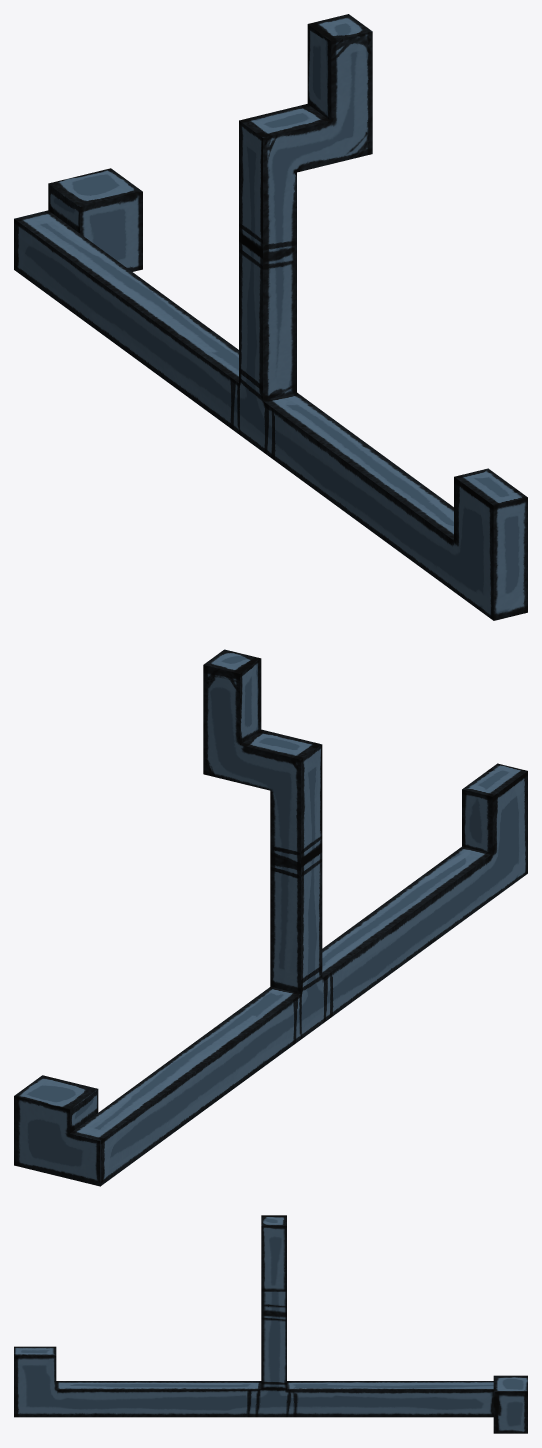
File: pipe.fbx
3 renders of one model, top to bottom at view 1: azimuth 30°, elevation 25°; view 2: azimuth 150°, elevation 25°; view 3: azimuth 270°, elevation 25°, orthographic. The views are drawn at different scales.
Parts seen in each view (by area): view 1: pipe; view 2: pipe; view 3: pipe.
Part boxes in pixels (x1=…): pipe: x1=14, y1=14, x2=527, y2=620; pipe: x1=14, y1=649, x2=527, y2=1186; pipe: x1=14, y1=1215, x2=527, y2=1433.
Bounding box in the file's own units: 0.3065 × 1.05 × 2.32.
Materials: 1 (1 with a texture image).
